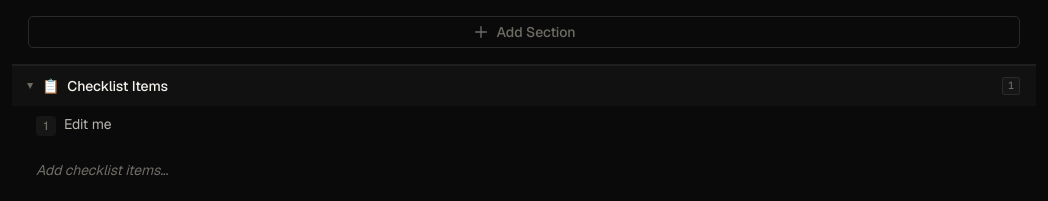
Test case: TaskSections › editing sections › enters edit mode when section content is clicked
Click the text "Edit me".
click(88, 124)  # box [64, 115, 112, 133]
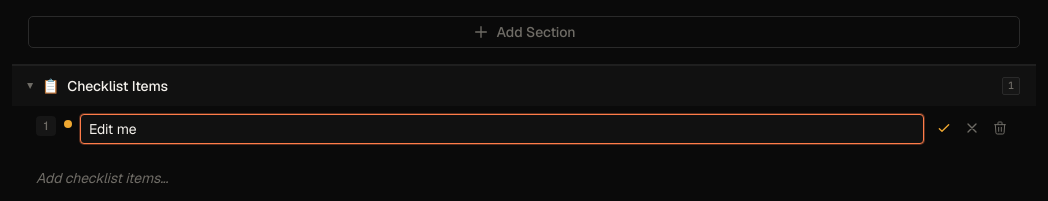
Now the field holds "Edit me", box [80, 114, 924, 144]
